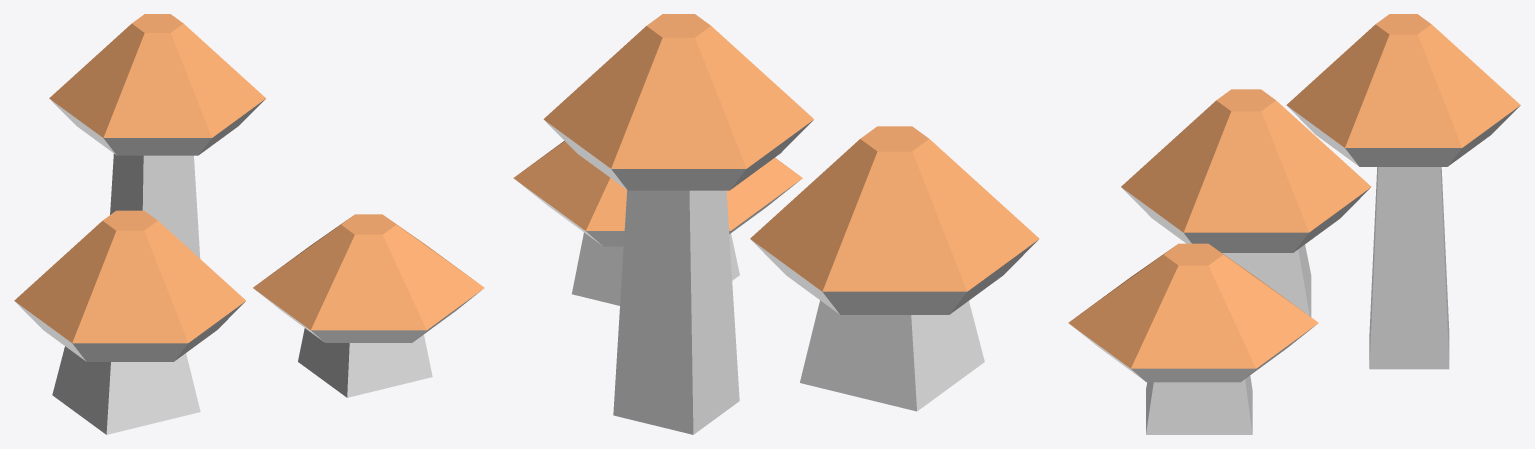
The model's file is mushroom_brownGroup.fbx.
3 views of the same model, side by side, from view 1: azimuth 30°, elevation 25°; view 2: azimuth 150°, elevation 25°; view 3: azimuth 270°, elevation 25° (orthographic). The views are drawn at different scales.
Parts seen in each view (by area): view 1: mushroom_brownGroup; view 2: mushroom_brownGroup; view 3: mushroom_brownGroup.
Boxes of the visible parts, left/top/right/bottom form: mushroom_brownGroup: left=14, top=14, right=484, bottom=434; mushroom_brownGroup: left=513, top=14, right=1039, bottom=434; mushroom_brownGroup: left=1068, top=14, right=1520, bottom=434.
Size of the model in its own units: 2.94 by 2.2 by 2.75.
